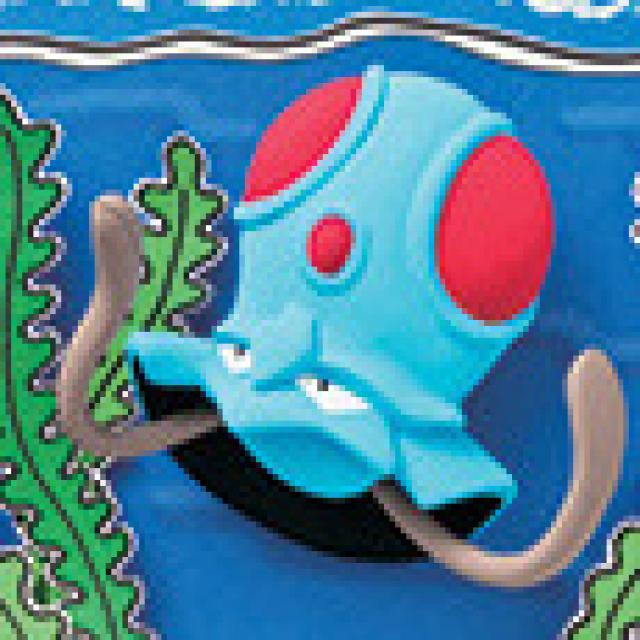Tentacool: (107, 65, 554, 590)
